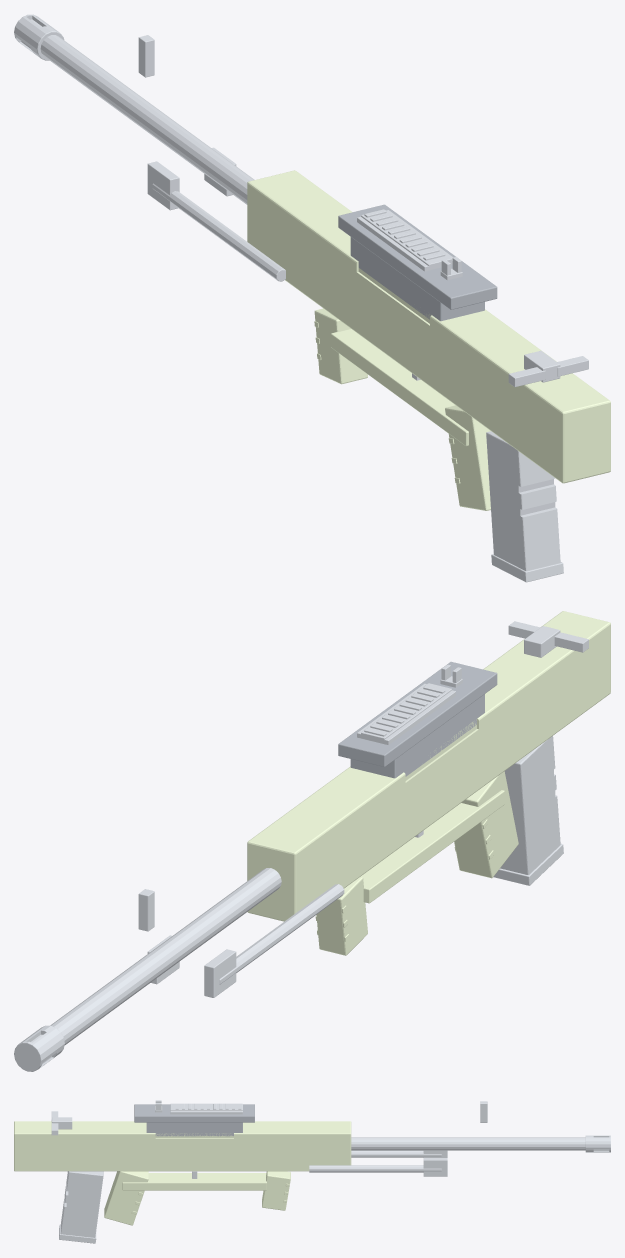
File: famas.glb
The picture shows the model from 3 angles, top to bottom: view 1: azimuth 30°, elevation 25°; view 2: azimuth 150°, elevation 25°; view 3: azimuth 270°, elevation 25°; orthographic projection. The views are drawn at different scales.
Parts seen in each view (by area): view 1: Receiver, mag, Barrel, CarryHandleTop, TriggerGuardBridge, Grip, CarryHandle, TopRail, BipodLegL, Foregrip, bolt, FlashHider (+2 smaller); view 2: Receiver, Barrel, mag, CarryHandleTop, TriggerGuardBridge, Grip, Foregrip, CarryHandle, TopRail, BipodLegL, bolt, FlashHider (+2 smaller); view 3: Receiver, Barrel, mag, TriggerGuardBridge, Grip, CarryHandleTop, CarryHandle, BipodLegR, Foregrip, TopRail, BipodLegL, FlashHider (+3 smaller).
Part boxes in pixels (x1,y1,x2,y2): Receiver: [247, 170, 610, 483]; mag: [486, 431, 563, 582]; Barrel: [40, 35, 254, 204]; CarryHandleTop: [338, 204, 497, 309]; TriggerGuardBridge: [331, 329, 468, 446]; Grip: [445, 405, 490, 510]; CarryHandle: [350, 237, 484, 321]; TopRail: [357, 209, 453, 271]; BipodLegL: [152, 183, 285, 281]; Foregrip: [314, 308, 367, 384]; bolt: [508, 350, 588, 387]; FlashHider: [14, 14, 64, 60]; Receiver: [247, 611, 610, 921]; Barrel: [50, 868, 281, 1045]; mag: [493, 736, 563, 885]; CarryHandleTop: [338, 661, 497, 766]; TriggerGuardBridge: [360, 790, 504, 903]; Grip: [454, 771, 518, 878]; Foregrip: [315, 877, 367, 955]; CarryHandle: [350, 694, 484, 778]; TopRail: [357, 683, 455, 744]; BipodLegL: [219, 884, 344, 984]; bolt: [508, 621, 588, 657]; FlashHider: [14, 1025, 64, 1071]; Receiver: [14, 1121, 351, 1171]; Barrel: [351, 1137, 585, 1150]; mag: [59, 1171, 103, 1243]; TriggerGuardBridge: [122, 1173, 266, 1190]; Grip: [104, 1171, 148, 1225]; CarryHandleTop: [134, 1104, 254, 1122]; CarryHandle: [146, 1122, 242, 1136]; BipodLegR: [309, 1165, 441, 1172]; Foregrip: [262, 1171, 290, 1210]; TopRail: [170, 1103, 242, 1114]; BipodLegL: [351, 1150, 441, 1157]; FlashHider: [585, 1135, 610, 1152].
Size of the model in its own units: 0.076 by 0.2507 by 0.991.
